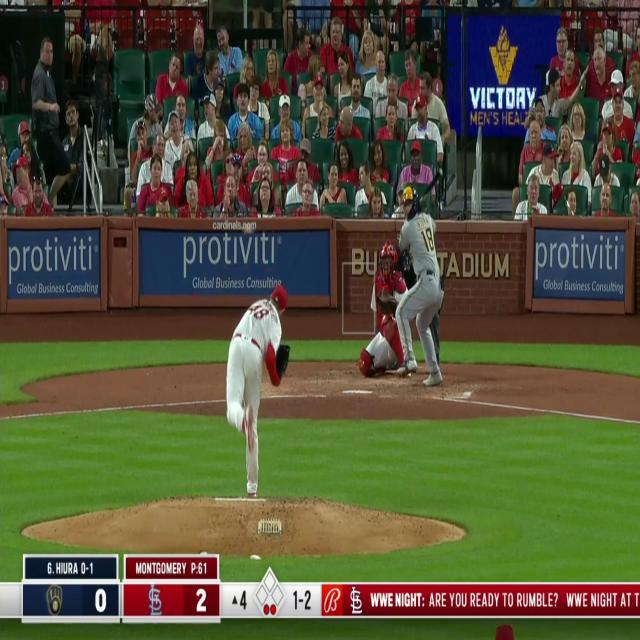baseball: (242, 217, 255, 240)
